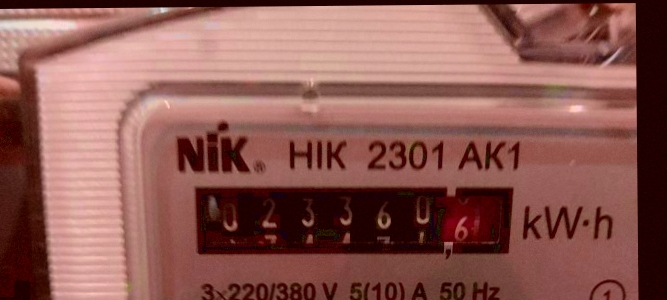0: (217, 197, 239, 232), (410, 191, 432, 226)
2: (257, 195, 278, 230)
3: (296, 194, 316, 229), (335, 193, 353, 227)
6: (372, 196, 392, 230), (450, 210, 469, 243)
screen: (180, 171, 532, 274)
